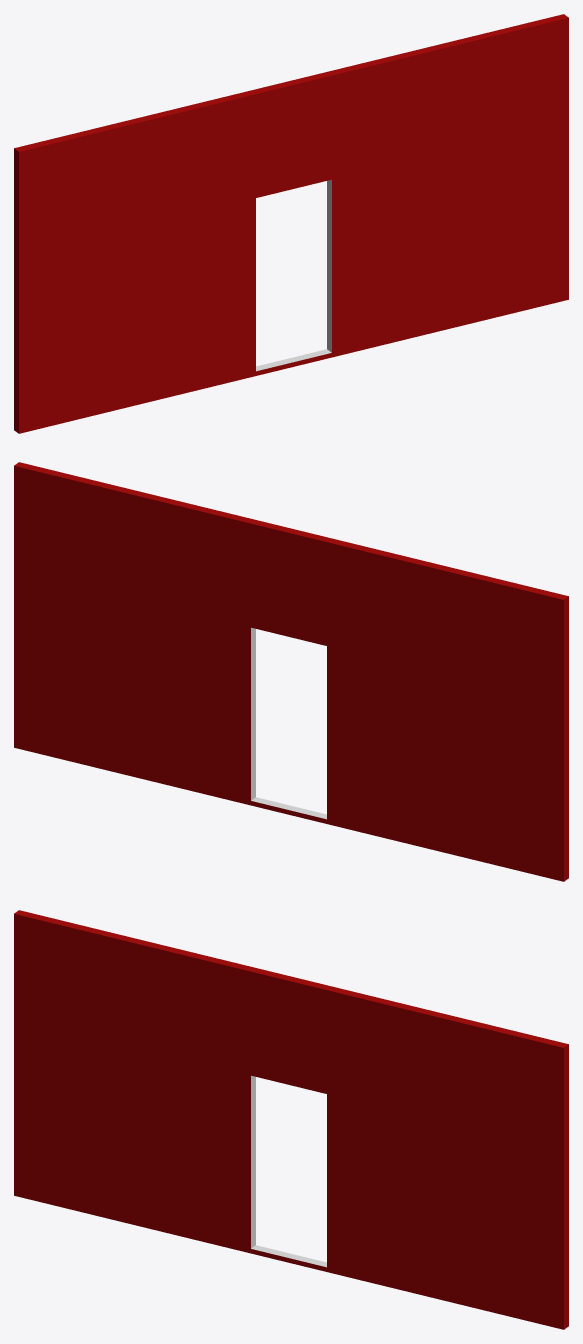
Rendered from new-ground.fbx.
3 views of the same model, one above another, from view 1: azimuth 30°, elevation 25°; view 2: azimuth 150°, elevation 25°; view 3: azimuth 330°, elevation 25° (orthographic).
Parts seen in each view (by area): view 1: pCube177; view 2: pCube177; view 3: pCube177.
Boxes of the visible parts, box(x1,y1,x2,y2) form: pCube177: box(14, 14, 568, 433); pCube177: box(14, 462, 568, 881); pCube177: box(14, 910, 568, 1329).
Size of what is drawn, in the model's own units: 405 by 198 by 6.42.
